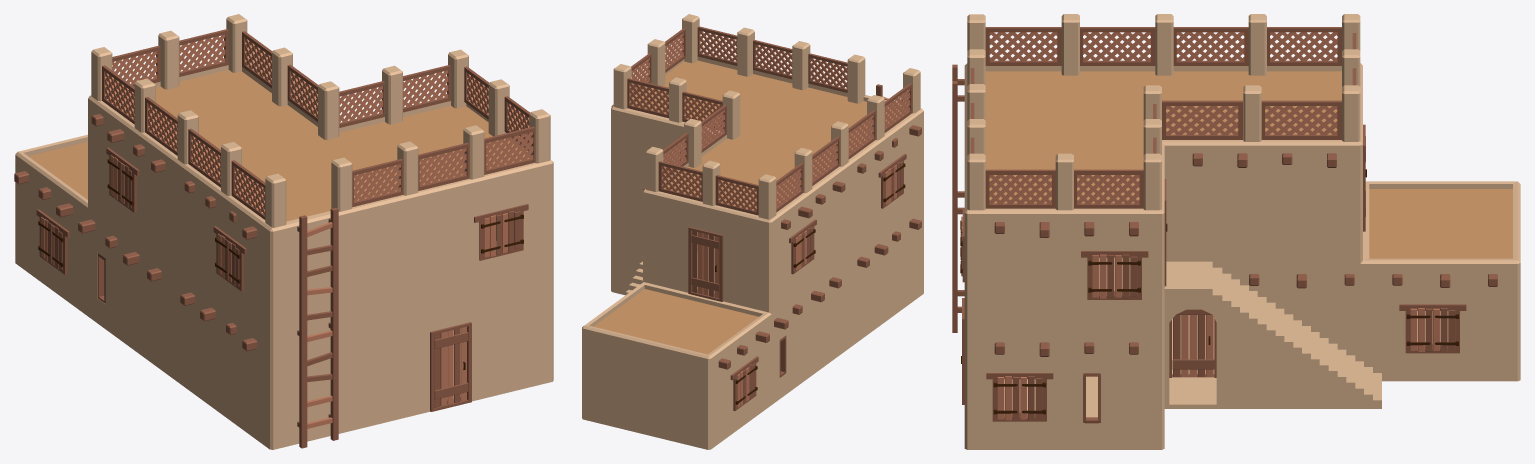
The model's file is Large Building A.fbx.
3 renders of one model, left to right at view 1: azimuth 30°, elevation 25°; view 2: azimuth 150°, elevation 25°; view 3: azimuth 270°, elevation 25°, orthographic. The views are drawn at different scales.
Visible parts, largest first — view 1: Large Building A, Large Building B; view 2: Large Building A, Large Building B; view 3: Large Building B, Large Building A.
Boxes of the visible parts, box(x1,y1,x2,y2) form: Large Building A: box(14, 14, 550, 449); Large Building B: box(15, 66, 553, 449); Large Building A: box(583, 14, 921, 449); Large Building B: box(582, 57, 923, 449); Large Building B: box(960, 63, 1520, 449); Large Building A: box(952, 14, 1519, 449).
Bounding box in the file's own units: 963 × 790 × 1410.
